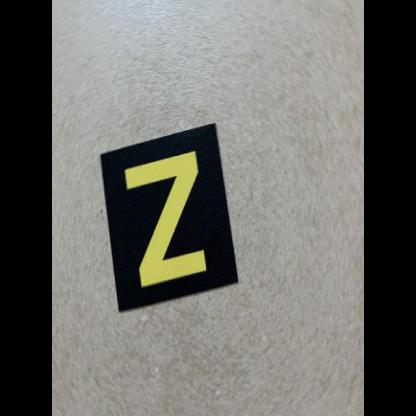z: (100, 119, 241, 315)
